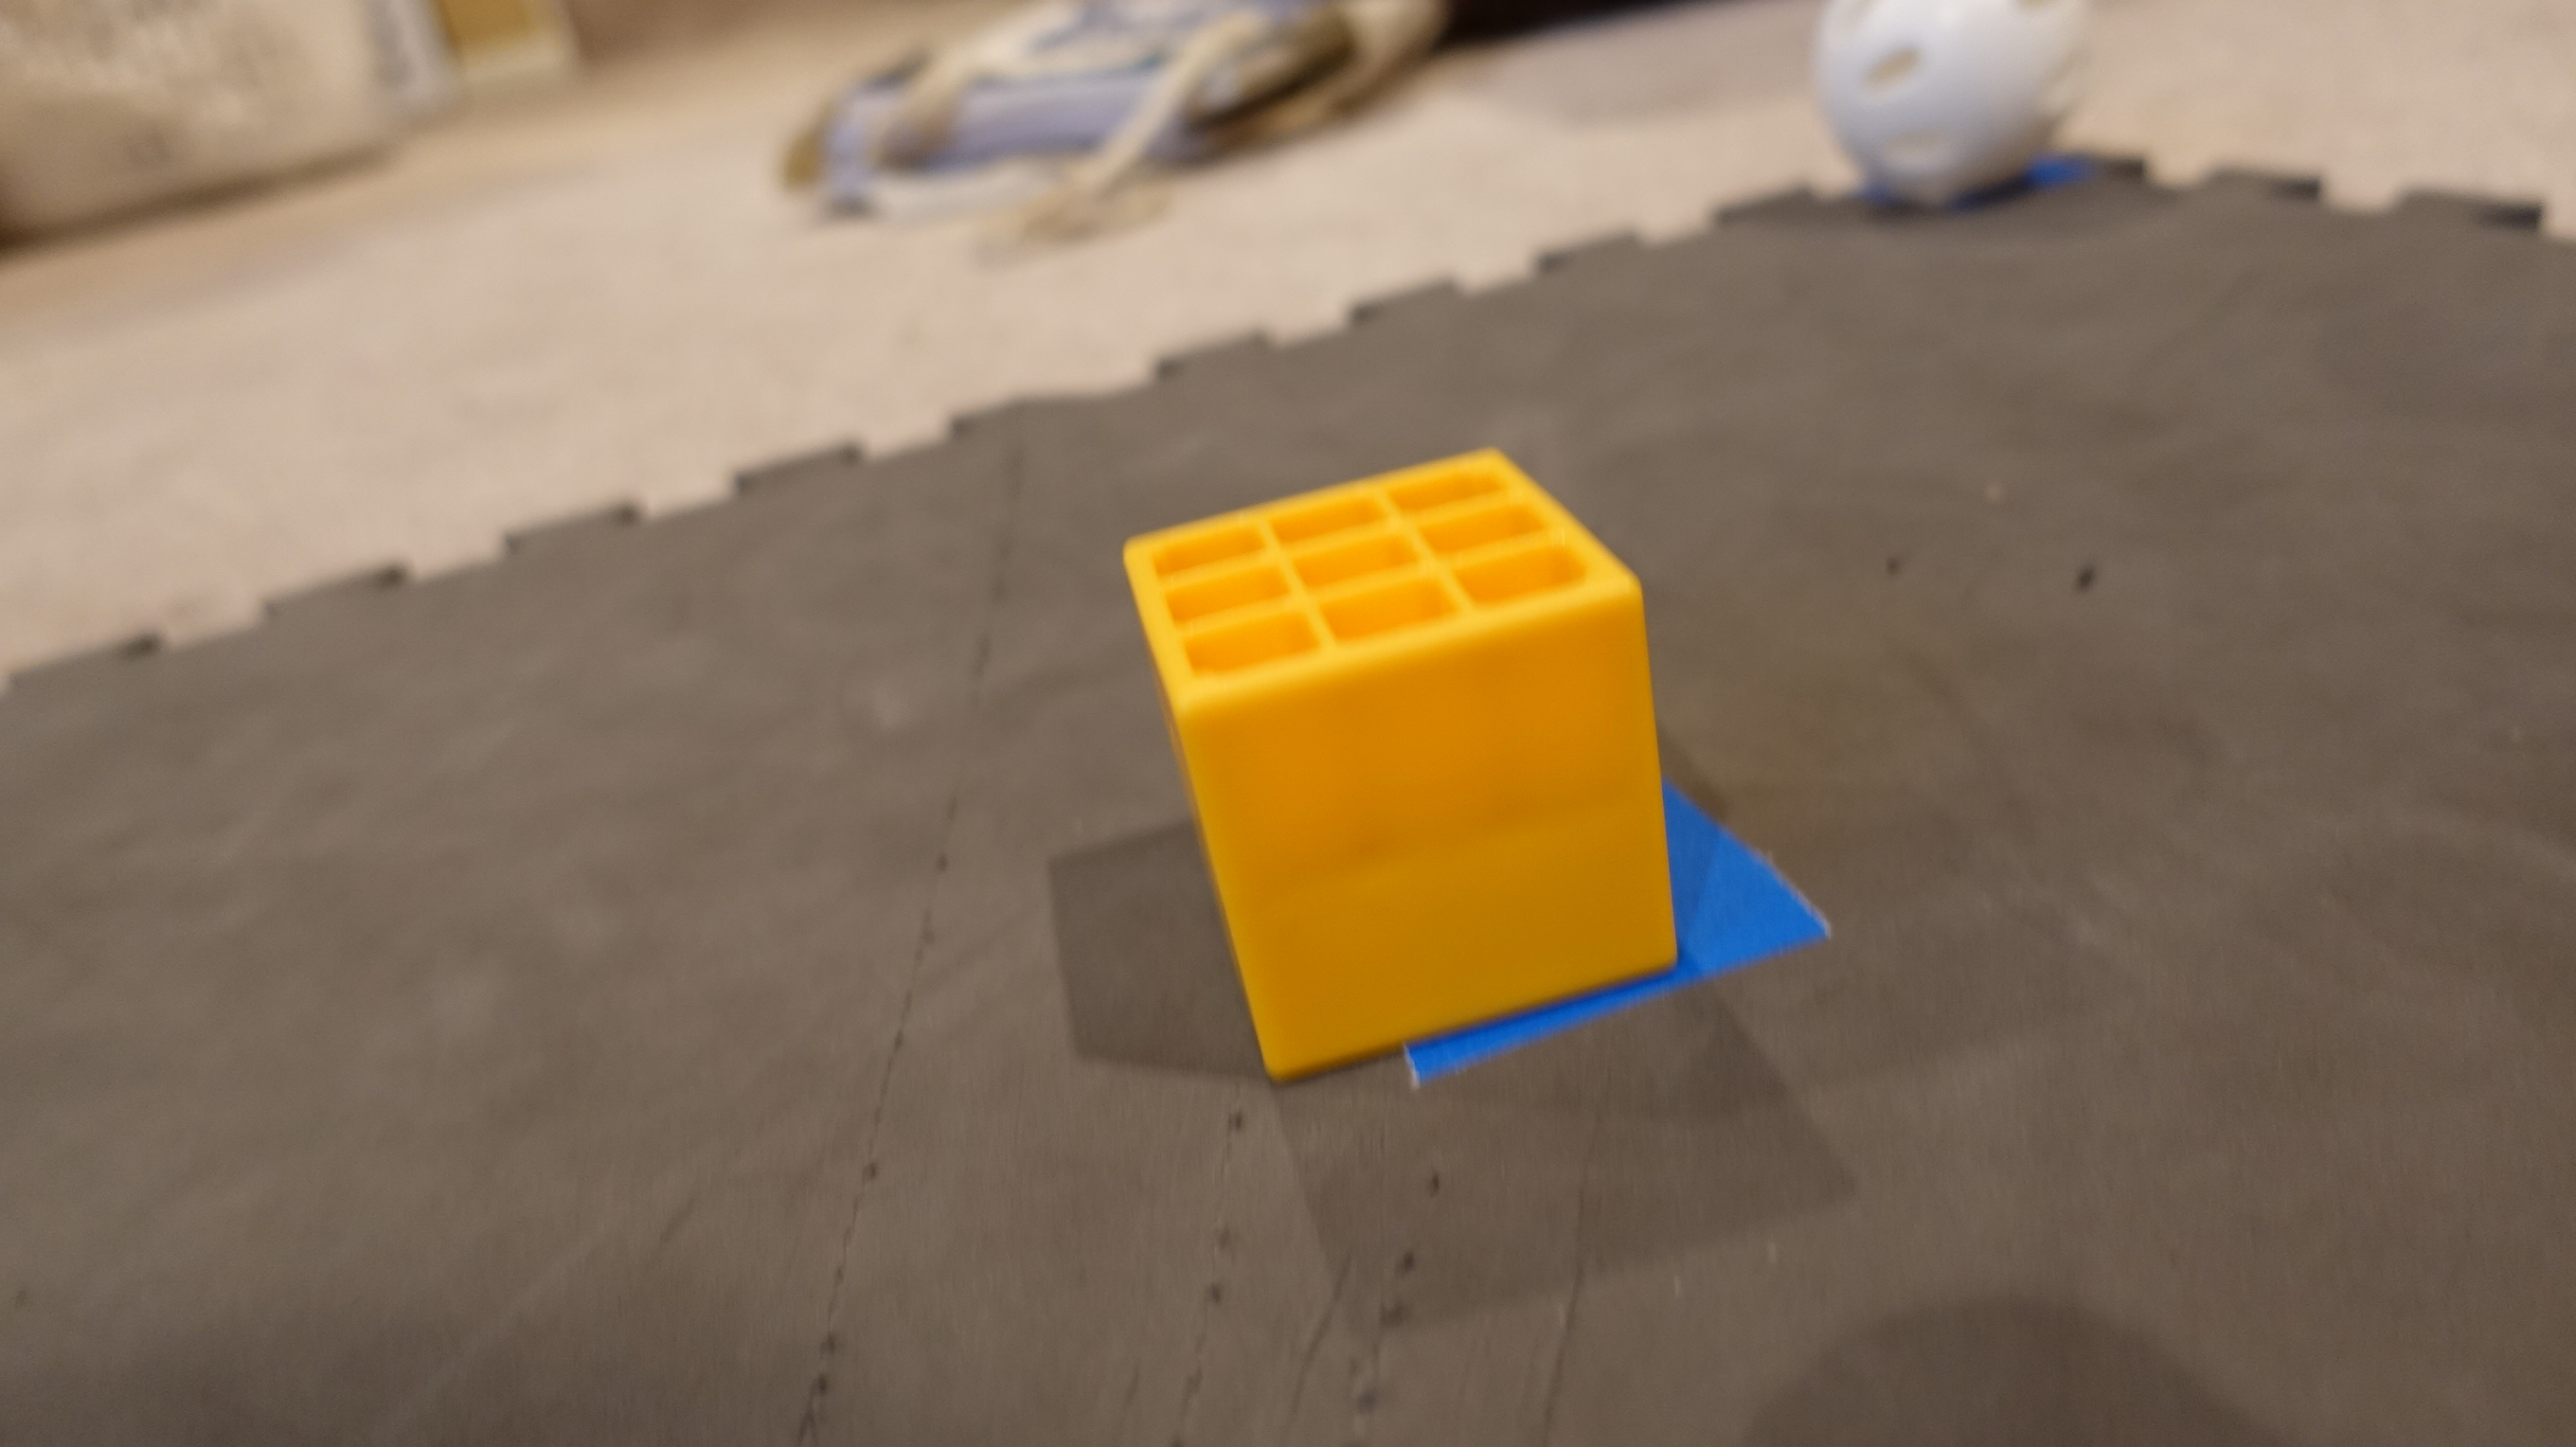gold: (1120, 448, 1683, 1090)
silver: (1803, 2, 2082, 212)
